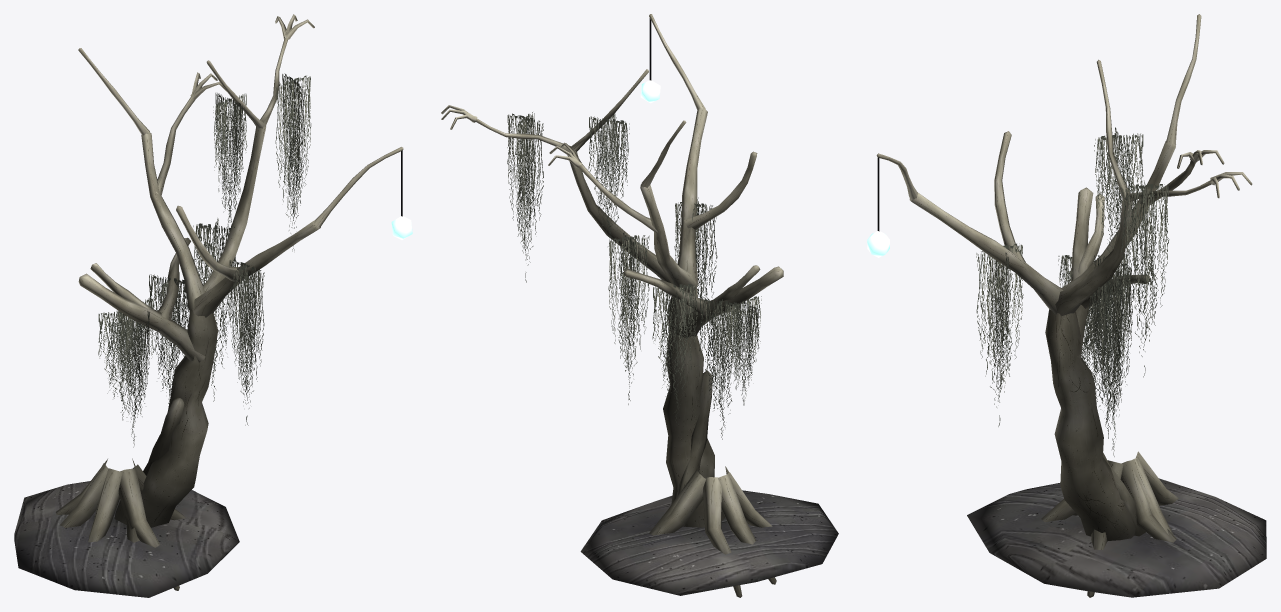
The model's file is helheim_bone_tree_c.glb.
3 views of the same model, side by side, from view 1: azimuth 30°, elevation 25°; view 2: azimuth 150°, elevation 25°; view 3: azimuth 270°, elevation 25° (orthographic). The views are drawn at different scales.
Visible parts, largest first — view 1: helheim_bone_tree_c; view 2: helheim_bone_tree_c; view 3: helheim_bone_tree_c.
Part boxes in pixels (bbox=[...]): helheim_bone_tree_c: bbox=[14, 14, 412, 597]; helheim_bone_tree_c: bbox=[441, 14, 838, 597]; helheim_bone_tree_c: bbox=[867, 14, 1266, 597].
Size of the model in its own units: 2.36 by 3.24 by 2.11.
5 materials, 3 textured.
